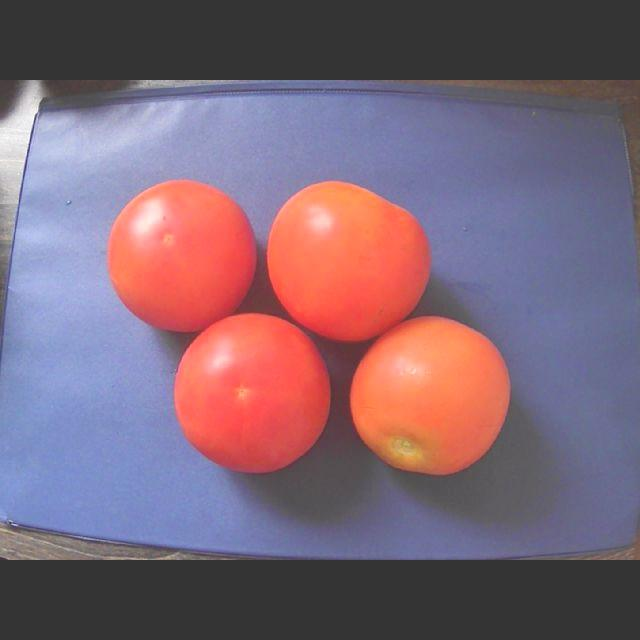tomate: (268, 181, 431, 339), (351, 317, 510, 473), (176, 314, 331, 471), (108, 180, 256, 332)
